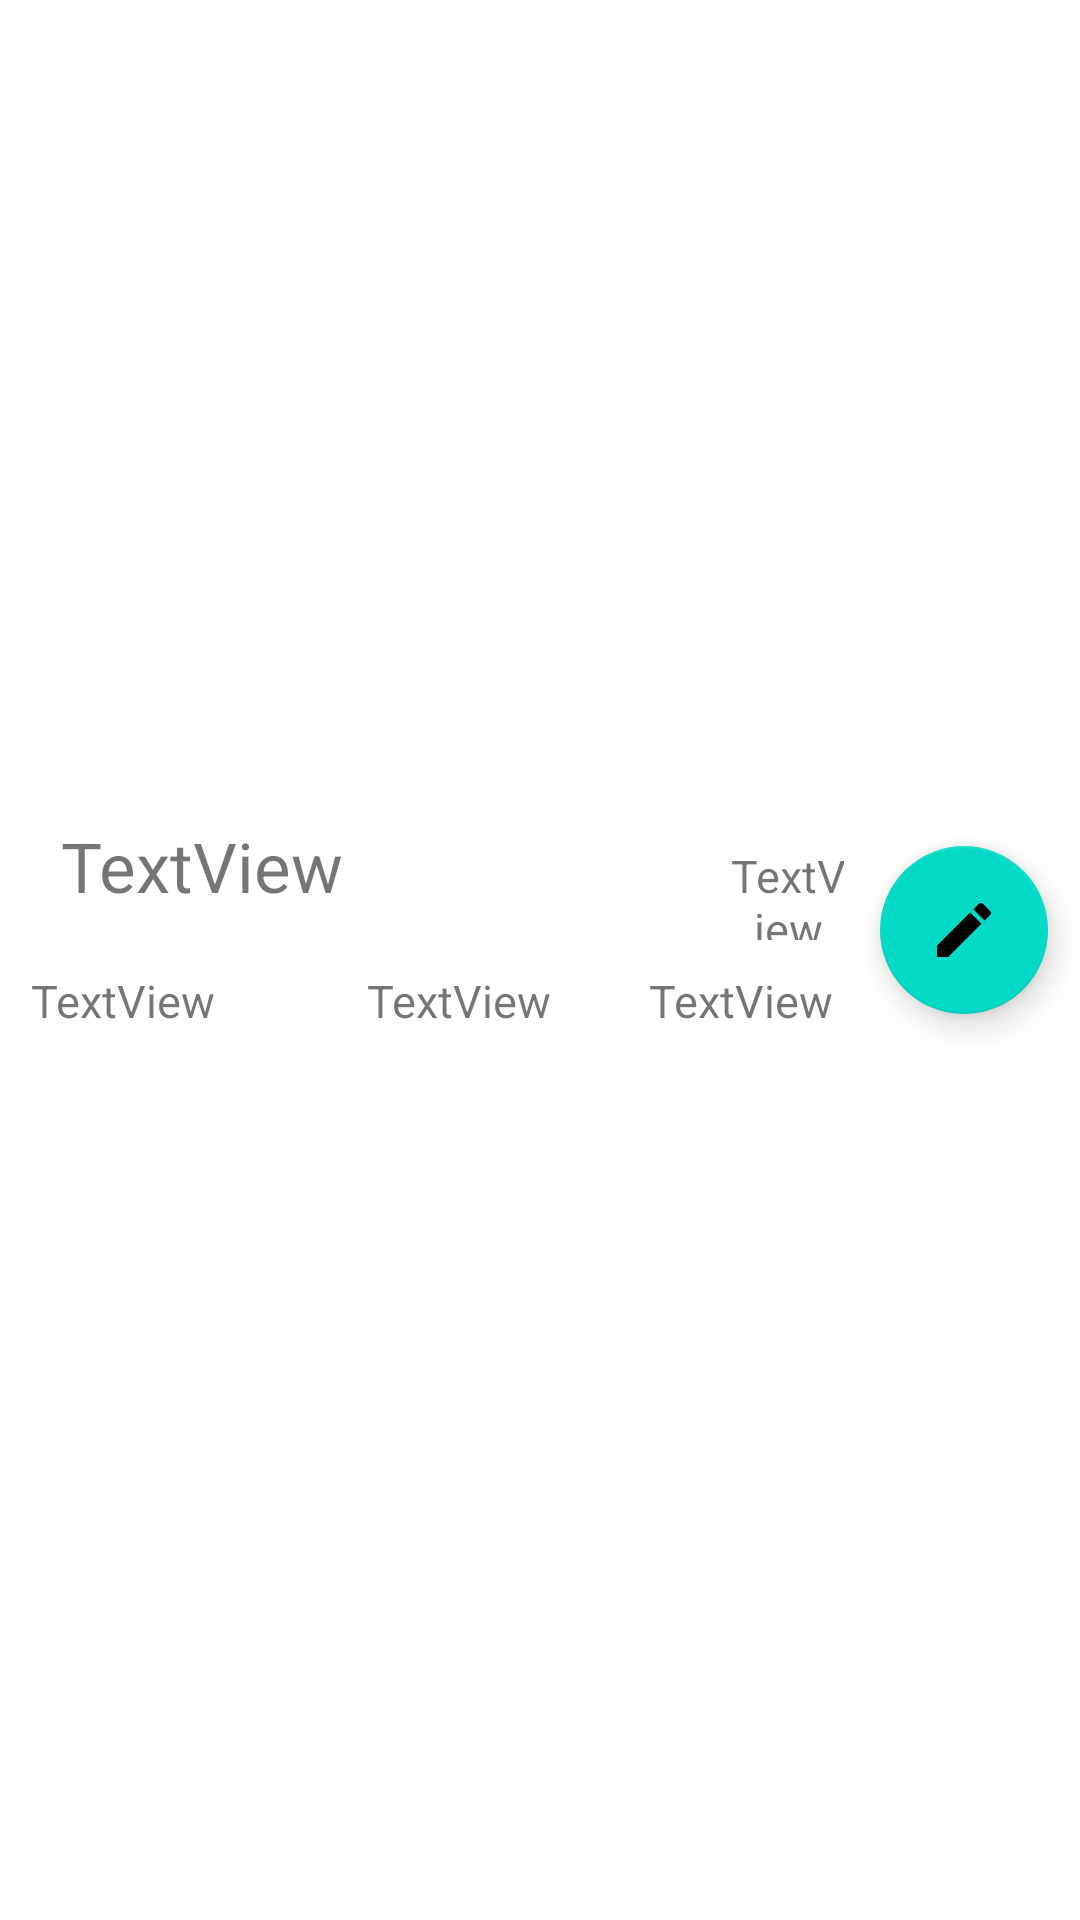

Locate icon controls on the screen. Image size 1080×1920, boxes as (x1, y1, x2, y2).
edit: (880, 846, 1048, 1014)
